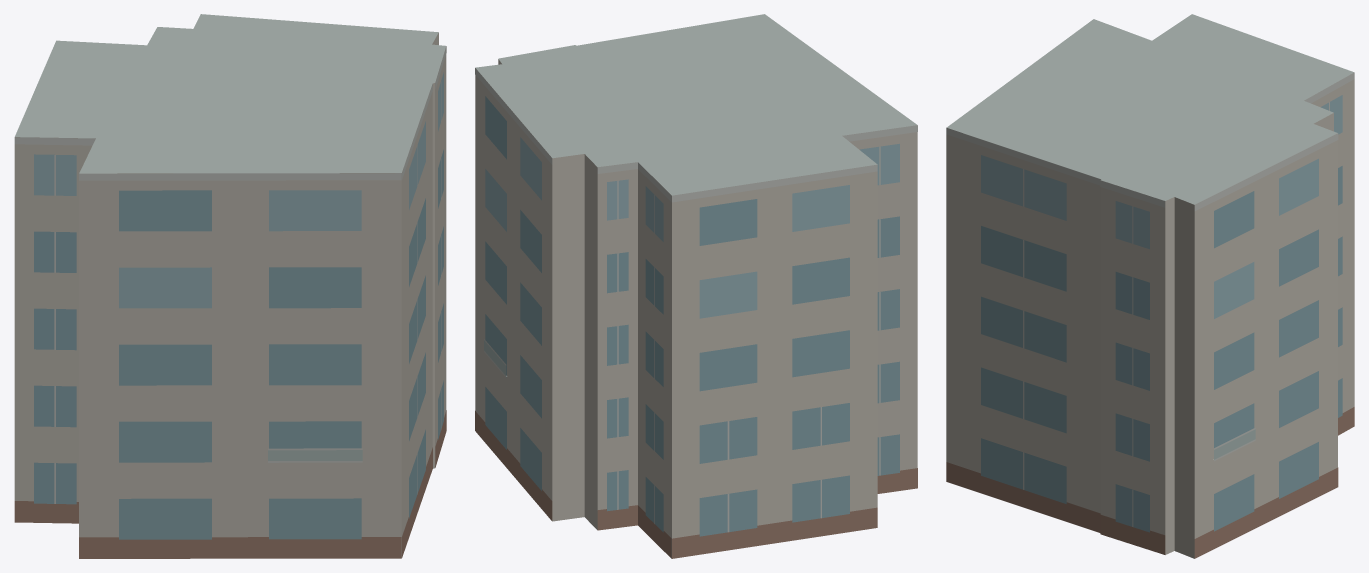
File: survey-upis-32657064.glb
The picture shows the model from 3 angles, left to right: view 1: azimuth 30°, elevation 25°; view 2: azimuth 150°, elevation 25°; view 3: azimuth 270°, elevation 25°; orthographic projection. The views are drawn at different scales.
Parts seen in each view (by area): view 1: survey-upis-32657064.tmp; view 2: survey-upis-32657064.tmp; view 3: survey-upis-32657064.tmp.
Part boxes in pixels (bbox=[...]): survey-upis-32657064.tmp: bbox=[14, 14, 446, 558]; survey-upis-32657064.tmp: bbox=[475, 14, 917, 558]; survey-upis-32657064.tmp: bbox=[946, 14, 1354, 558].
Bounding box in the file's own units: 14.92 × 12.9 × 13.49.
